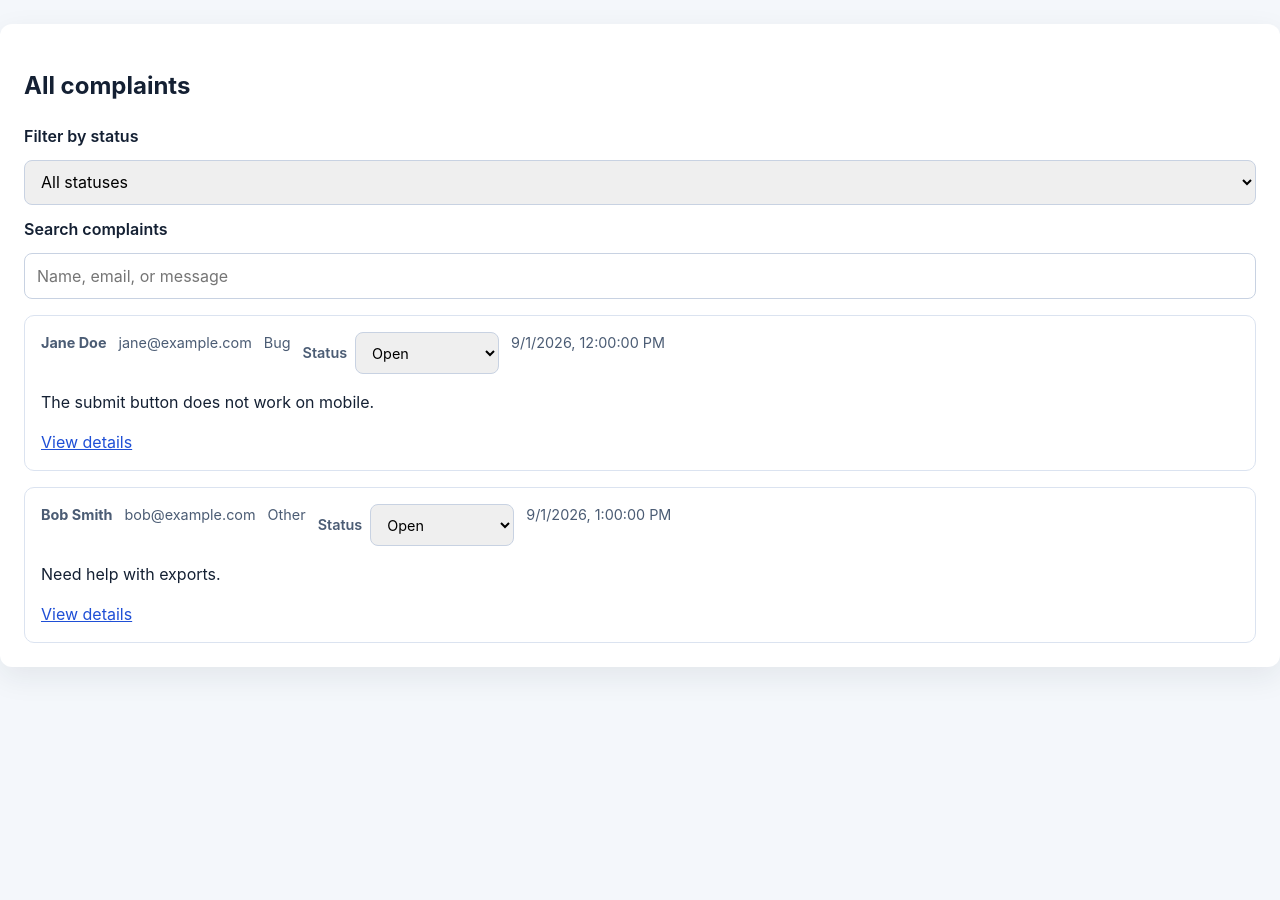
Complaint status and roles › filters complaints by search text
Expected: the text "Jane Doe" is shown, [41,334,106,351]
Expected: the text "Bob Smith" is shown, [41,506,112,523]
Type "Bob" into the search field labelled "Search complaints".
click(640, 276); type("Bob")  # box [24,253,1256,299]
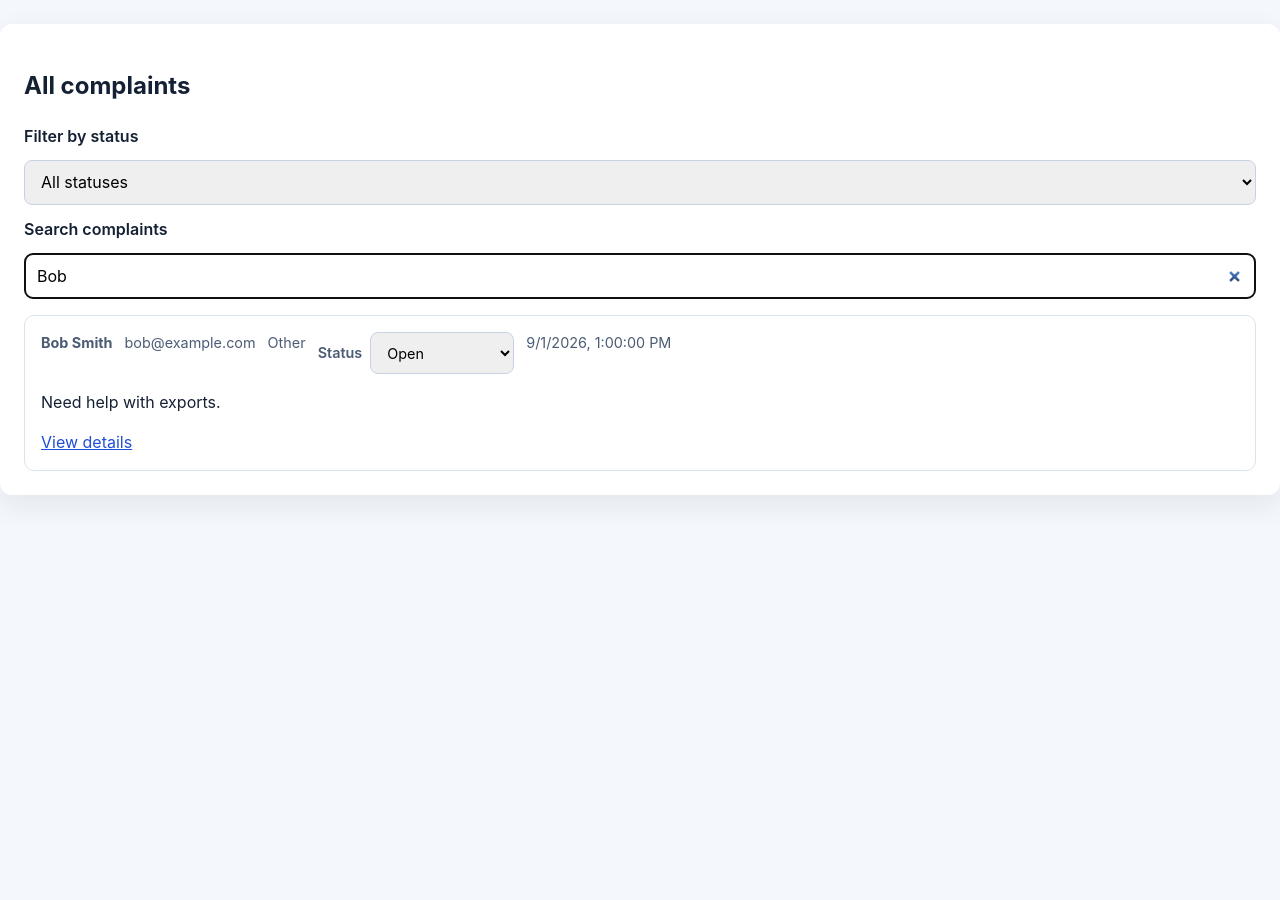
Expected: the text "Bob Smith" is shown, [41,334,112,351]
Now the text "Jane Doe" is gone
